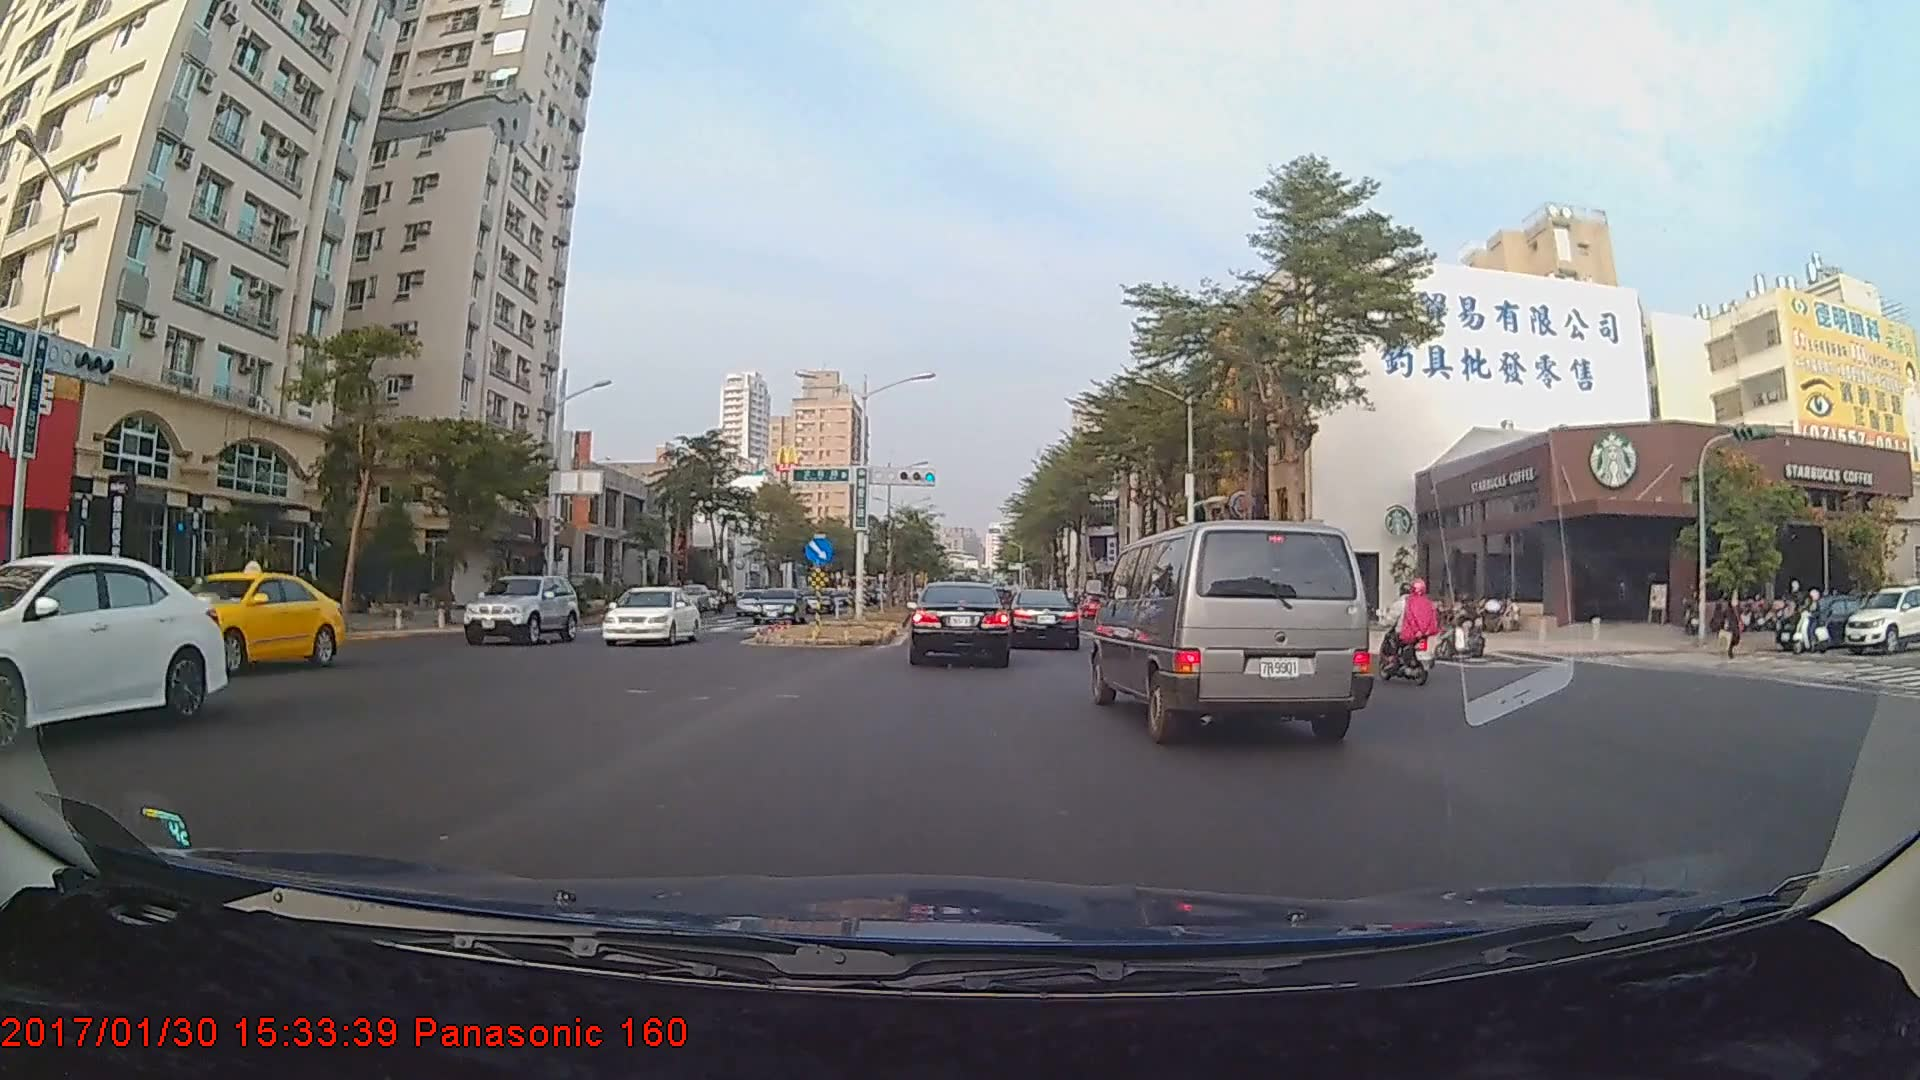pedestrian: (1725, 587, 1745, 656)
rider: (1375, 571, 1448, 678), (1789, 586, 1835, 657)
vehicle: (1097, 514, 1370, 743), (0, 559, 220, 746), (135, 571, 341, 668), (907, 580, 1012, 667), (456, 567, 573, 642), (599, 585, 702, 645), (1835, 584, 1915, 652), (1008, 588, 1080, 650), (748, 585, 808, 622)
